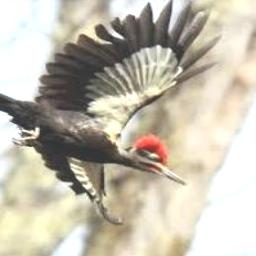Woodpecker: (0, 0, 221, 224)
